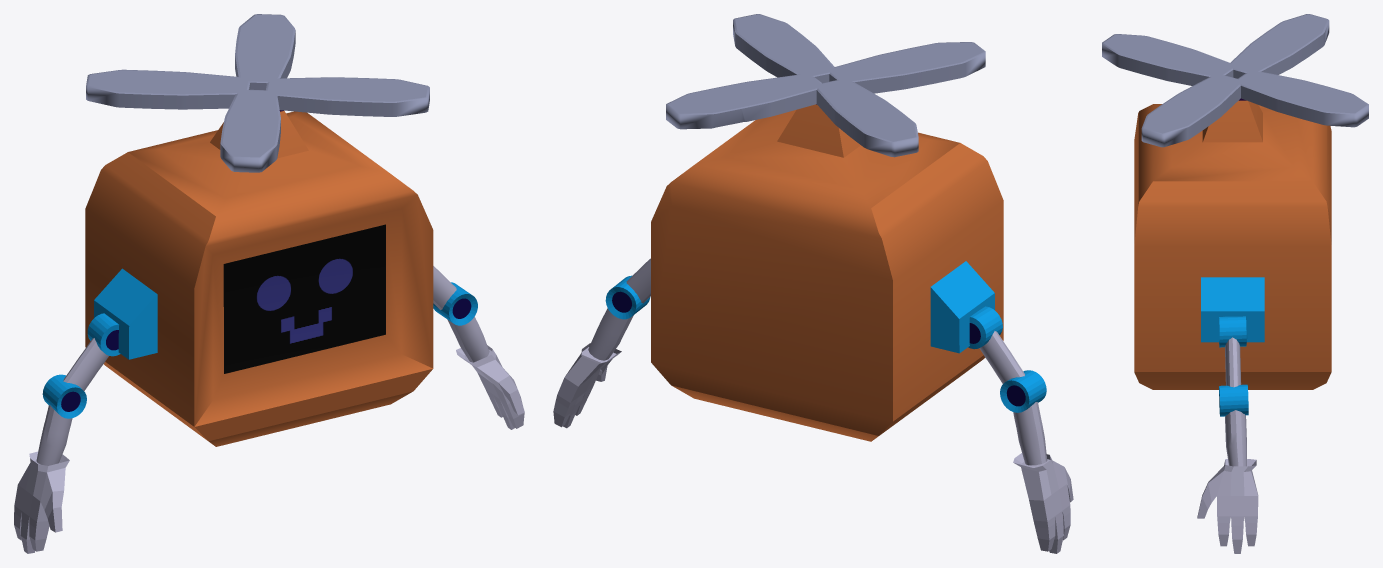
The model's file is roboto.glb.
3 views of the same model, side by side, from view 1: azimuth 30°, elevation 25°; view 2: azimuth 150°, elevation 25°; view 3: azimuth 270°, elevation 25° (orthographic). The views are drawn at different scales.
Parts seen in each view (by area): view 1: Cuerporobot, helices; view 2: Cuerporobot, helices; view 3: Cuerporobot, helices.
Boxes of the visible parts, <box> form: Cuerporobot: <box>14,110,524,553</box>; helices: <box>86,14,429,172</box>; Cuerporobot: <box>553,104,1073,553</box>; helices: <box>666,14,985,157</box>; Cuerporobot: <box>1134,98,1331,553</box>; helices: <box>1102,14,1368,147</box>.
Bounding box in the file's own units: 0.5668 × 0.4556 × 0.2935.
Materials: 7 (1 with a texture image).
